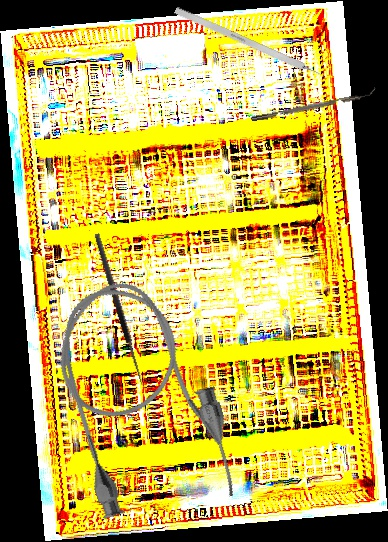Cannula: (35, 264, 249, 536)
Chopper: (249, 86, 378, 122)
Hook Surgical: (173, 6, 335, 84), (92, 230, 154, 389)
